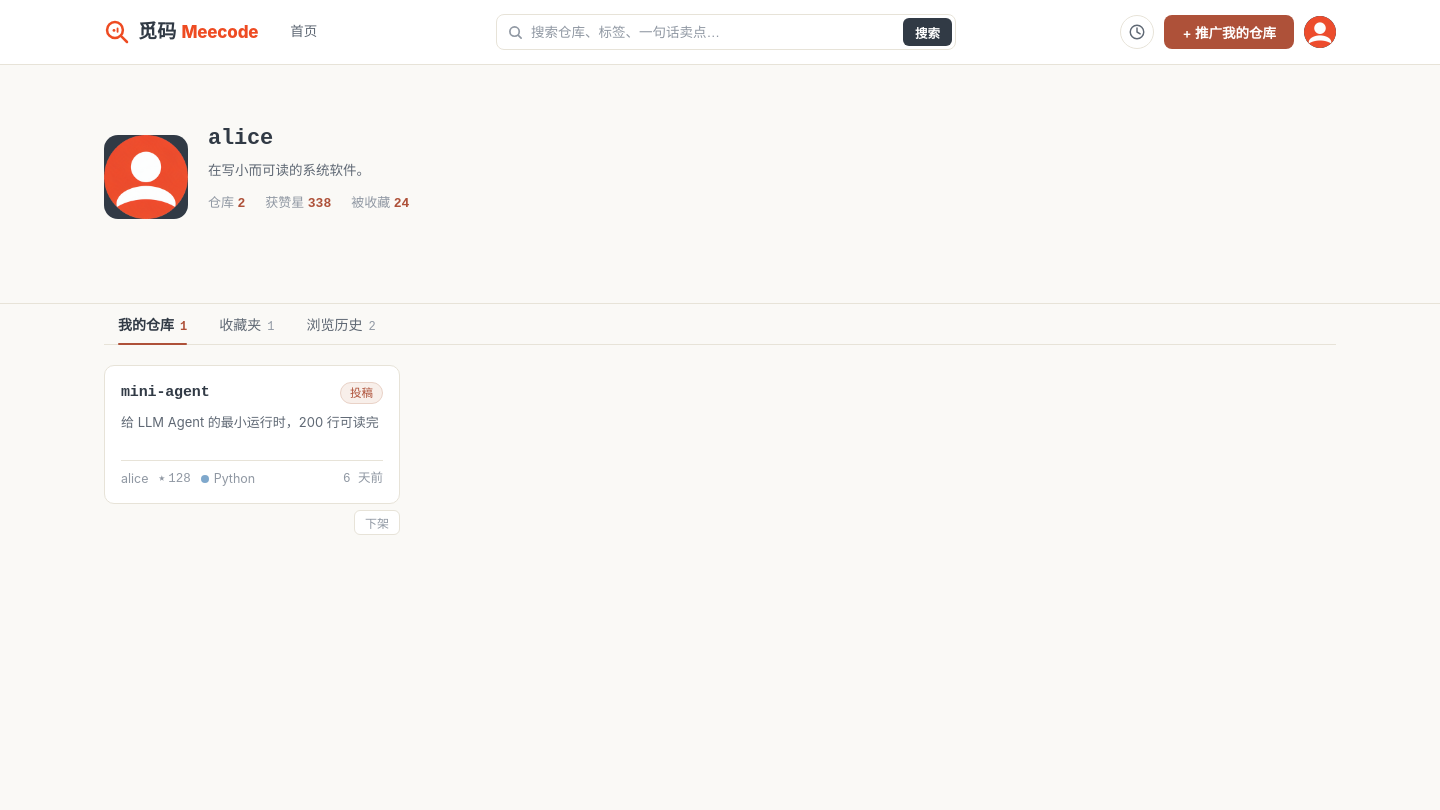
Test: ProfilePage › 本人仓库可下架
The image size is (1440, 810).
What coordinates should you click on to do the following:
click the button "下架"
I would click on:
 (377, 522)
Its box is 354,510 -> 400,535.
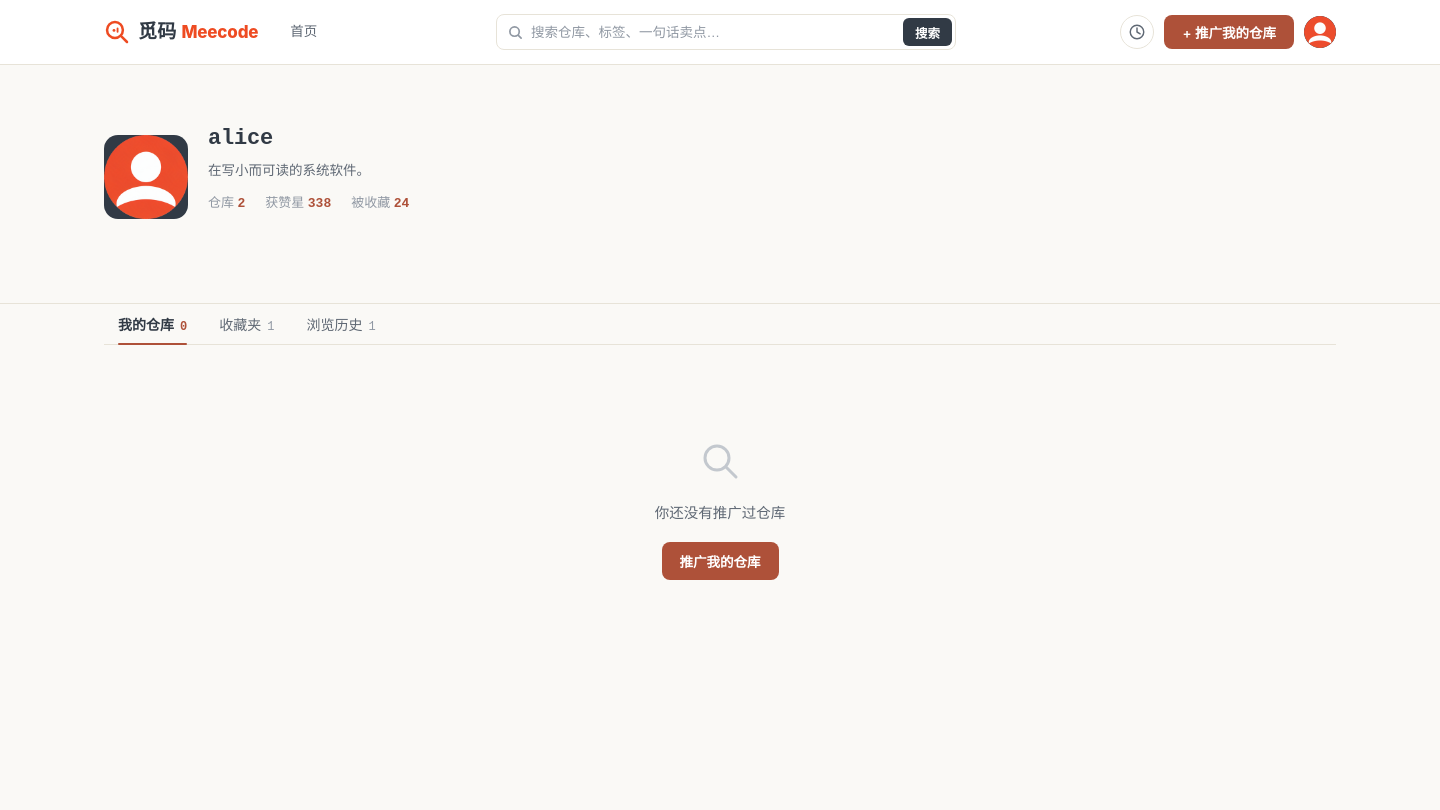
Check: the text "你还没有推广过仓库" is shown, box 655,501 -> 785,524
